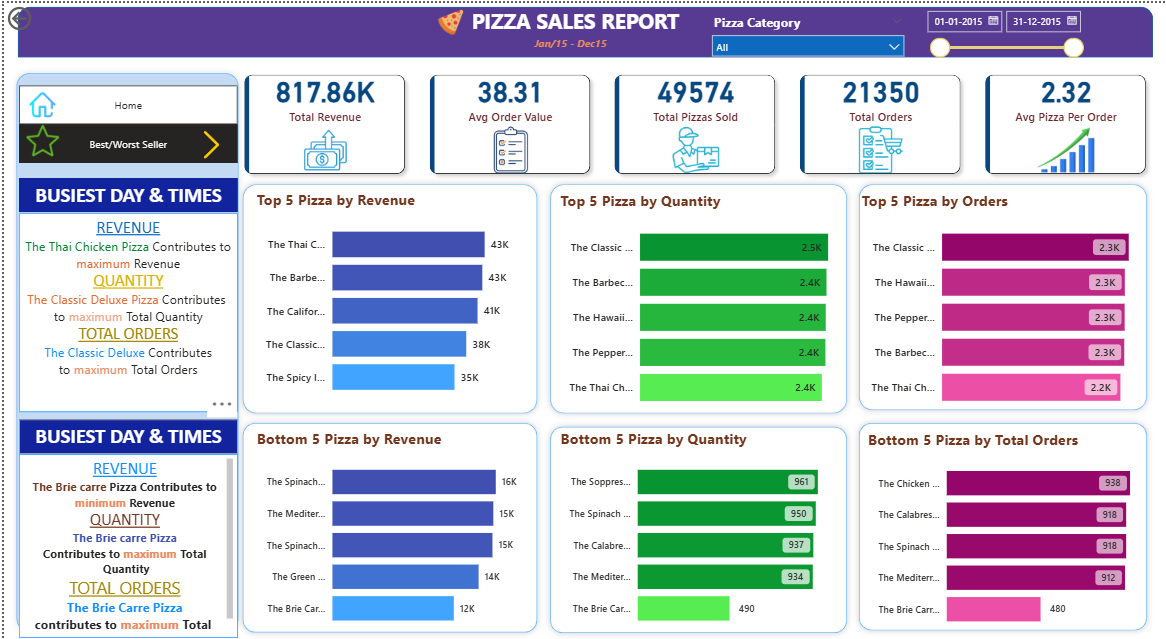

Layout of this report page (visuals, bound fields, positions):
{"tool":"powerbi","page":{"name":"Best/Worst Seller","canvas":[1500,820],"ordinal":1},"visuals":[{"type":"cardVisual","fields":{"Data":["pizza_sales.Total Revenue","pizza_sales.Avg Order Value","pizza_sales.Total Pizzas Sold","pizza_sales.Total Orders","pizza_sales.Avg Pizza Per Order"]},"box":[286.9,69.6,1213,174.1],"z":0},{"type":"shape","box":[18.1,4.2,1465.1,65.5],"z":1000},{"type":"textbox","box":[598.6,0,302.9,50],"z":2000},{"type":"textbox","box":[678.2,37.6,158.8,32],"z":3000},{"type":"image","box":[552.9,8.4,46,33.4],"z":4000},{"type":"actionButton","box":[0,0,100,40],"z":5000},{"type":"shape","box":[300.6,226.1,396.1,311.8],"z":6000},{"type":"shape","box":[8.5,82.8,302.6,737.2],"z":7000},{"type":"textbox","box":[18.6,226.6,282.4,44],"z":8000},{"type":"textbox","box":[18.6,270.5,282.4,257],"z":9000},{"type":"textbox","box":[18.6,537.7,282.4,44],"z":10000},{"type":"textbox","box":[18.6,581.6,282.4,236.7],"z":11000},{"type":"slicer","fields":{"Values":["pizza_sales.pizza_category"]},"box":[903.1,8.4,268.3,61.8],"z":12000},{"type":"slicer","fields":{"Values":["pizza_sales.order_date"]},"box":[1179.8,0,221.9,74.4],"z":13000},{"type":"shape","box":[1095.5,226.1,387.6,307.6],"z":14000},{"type":"shape","box":[696.6,226.1,398.9,311.8],"z":15000},{"type":"shape","box":[300.6,533.7,396.1,286.5],"z":16000},{"type":"shape","box":[696.6,537.9,398.9,282.3],"z":17000},{"type":"shape","box":[1095.5,533.7,387.6,283.7],"z":18000},{"type":"barChart","title":"Top 5 Pizza by Revenue","fields":{"Category":["pizza_sales.pizza_name"],"Y":["pizza_sales.Total Revenue"]},"box":[320.2,240.2,358.1,282.3],"z":19000},{"type":"barChart","title":"Bottom 5 Pizza by Revenue","fields":{"Category":["pizza_sales.pizza_name"],"Y":["pizza_sales.Total Revenue"]},"box":[320.2,549.2,358.1,271.1],"z":20000},{"type":"barChart","title":"Top 5 Pizza by Quantity","fields":{"Category":["pizza_sales.pizza_name"],"Y":["pizza_sales.Total Pizzas Sold"]},"box":[713.3,241.9,381.7,296.2],"z":21000},{"type":"barChart","title":"Bottom 5 Pizza by Quantity","fields":{"Category":["pizza_sales.pizza_name"],"Y":["pizza_sales.Total Pizzas Sold"]},"box":[713.3,548.5,367.1,271.1],"z":22000},{"type":"barChart","title":"Top 5 Pizza by Orders","fields":{"Category":["pizza_sales.pizza_name"],"Y":["pizza_sales.Total Orders"]},"box":[1102.4,241.8,382.1,295.9],"z":23000},{"type":"barChart","title":"Bottom 5 Pizza by Total Orders","fields":{"Category":["pizza_sales.pizza_name"],"Y":["pizza_sales.Total Orders"]},"box":[1109.1,549.5,375.3,270.5],"z":24000},{"type":"pageNavigator","box":[18.6,106.5,282.4,50.7],"z":25000},{"type":"pageNavigator","box":[18.6,157.2,282.4,50.7],"z":26000},{"type":"image","box":[216.4,164,103.1,37.2],"z":27000},{"type":"image","box":[0,115,99.8,33.8],"z":28000},{"type":"image","box":[0,157.2,99.8,42.3],"z":29000}]}

Visuals, with their boxes in screenshot pixels (x1, y1, x2, y2), scaled from the page's 1500x820 canvas onto the 1166x639 screenshot:
cardVisual - pizza_sales.Total Revenue x pizza_sales.Avg Order Value: detection(223, 54, 1165, 190)
shape: detection(14, 3, 1153, 54)
textbox: detection(465, 0, 701, 39)
textbox: detection(527, 29, 651, 54)
image: detection(430, 7, 466, 33)
actionButton: detection(0, 0, 78, 31)
shape: detection(234, 176, 542, 419)
shape: detection(7, 65, 242, 638)
textbox: detection(14, 177, 234, 211)
textbox: detection(14, 211, 234, 411)
textbox: detection(14, 419, 234, 453)
textbox: detection(14, 453, 234, 638)
slicer - pizza_sales.pizza_category: detection(702, 7, 911, 55)
slicer - pizza_sales.order_date: detection(917, 0, 1090, 58)
shape: detection(852, 176, 1153, 416)
shape: detection(541, 176, 852, 419)
shape: detection(234, 416, 542, 638)
shape: detection(541, 419, 852, 638)
shape: detection(852, 416, 1153, 637)
"Top 5 Pizza by Revenue" barChart: detection(249, 187, 527, 407)
"Bottom 5 Pizza by Revenue" barChart: detection(249, 428, 527, 638)
"Top 5 Pizza by Quantity" barChart: detection(554, 189, 851, 419)
"Bottom 5 Pizza by Quantity" barChart: detection(554, 427, 840, 638)
"Top 5 Pizza by Orders" barChart: detection(857, 188, 1154, 419)
"Bottom 5 Pizza by Total Orders" barChart: detection(862, 428, 1154, 638)
pageNavigator: detection(14, 83, 234, 123)
pageNavigator: detection(14, 123, 234, 162)
image: detection(168, 128, 248, 157)
image: detection(0, 90, 78, 116)
image: detection(0, 123, 78, 155)
